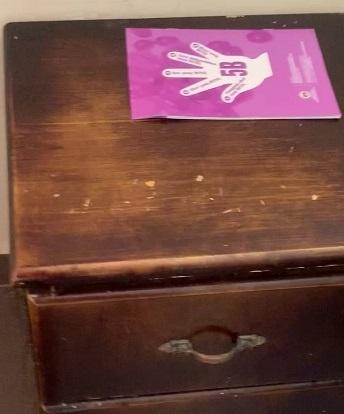cabinet_door: (31, 286, 344, 394)
handle: (157, 330, 267, 372)
